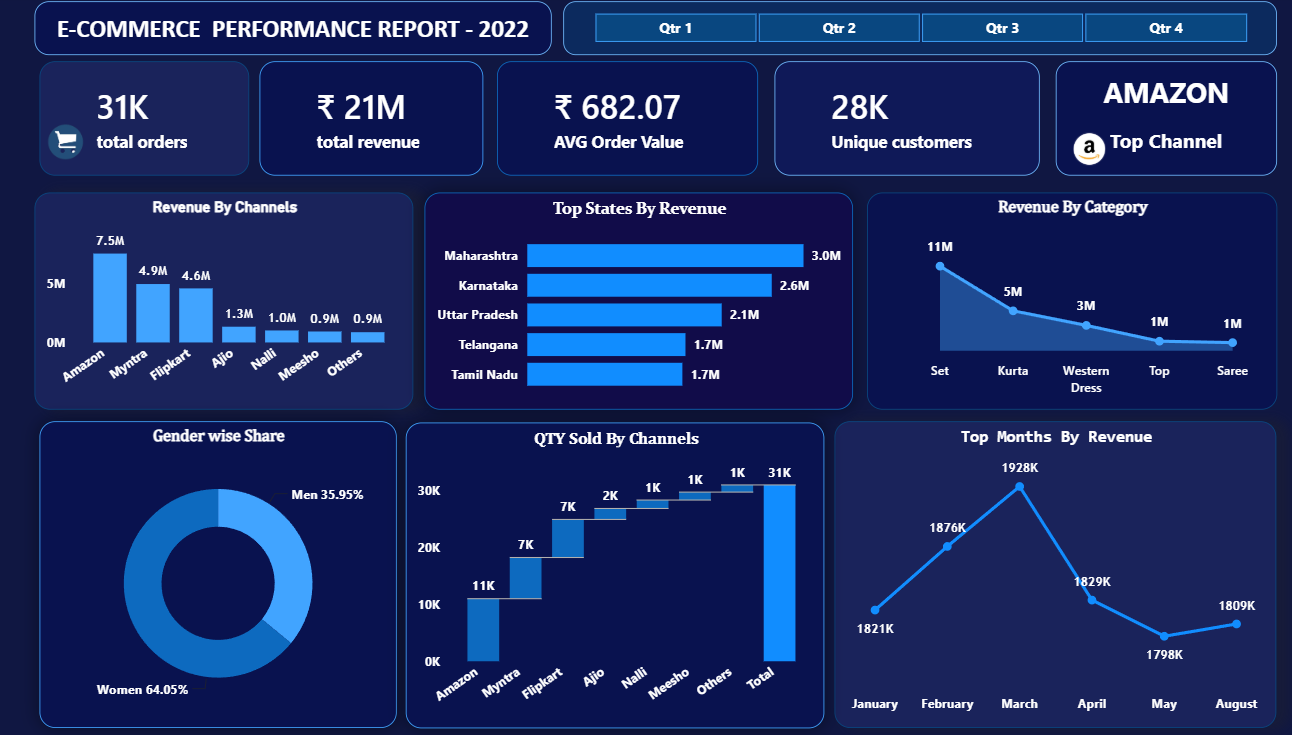

The page's visual inventory and layout, read from the dashboard file:
{"tool":"powerbi","page":{"name":"Page 1","canvas":[1280,720],"ordinal":0},"visuals":[{"type":"clusteredColumnChart","title":"Revenue By Channels","fields":{"Y":["Sum(Sales_Data.Amount)"],"Category":["Sales_Data.Channel"]},"box":[46.3,190.5,366,209.5],"z":0},{"type":"clusteredBarChart","title":"Top States By Revenue","fields":{"Category":["Sales_Data.Ship-State"],"Y":["Sum(Sales_Data.Amount)"]},"box":[421.8,190.5,413.6,209.5],"z":1000},{"type":"areaChart","title":"Revenue By Category","fields":{"Category":["Sales_Data.Category"],"Y":["Sum(Sales_Data.Amount)"]},"box":[849,190.5,395.9,209.5],"z":2000},{"type":"donutChart","title":"Gender wise Share ","fields":{"Series":["Sales_Data.Gender"],"Y":["Sum(Sales_Data.Amount)"]},"box":[50.8,411.7,344.4,296.4],"z":3000},{"type":"lineChart","title":"Top Months By Revenue ","fields":{"Category":["Sales_Data.Month.Variation.Date Hierarchy.Month"],"Y":["Sum(Sales_Data.Amount)"]},"box":[817.8,411.7,426.8,296.4],"z":4000},{"type":"waterfallChart","title":"QTY Sold By Channels ","fields":{"Category":["Sales_Data.Channel"],"Y":["CountNonNull(Sales_Data.Qty)"]},"box":[404.1,412.2,404.1,295.2],"z":5000},{"type":"cardVisual","fields":{"Data":["Sales_Data.total orders"]},"box":[50.3,63.9,202.7,110.2],"z":6000},{"type":"cardVisual","fields":{"Data":["Sales_Data.total revenue"]},"box":[262.6,63.9,216.3,110.2],"z":7000},{"type":"cardVisual","fields":{"Data":["Sales_Data.AVG Order Value"]},"box":[492.5,63.9,251.7,110.2],"z":8000},{"type":"cardVisual","fields":{"Data":["Sales_Data.Unique customers"]},"box":[760.5,63.9,255.8,110.2],"z":9000},{"type":"textbox","box":[1031.3,63.9,213.6,110.2],"z":10000},{"type":"textbox","box":[46.3,5.4,499.3,51.7],"z":11000},{"type":"slicer","fields":{"Values":["Sales_Data.Month.Variation.Date Hierarchy.Quarter"]},"box":[556.5,5.4,688.4,51.7],"z":12000},{"type":"image","box":[1047.2,120.6,33.8,55.5],"z":12001},{"type":"image","box":[50.7,109.8,50.7,63.9],"z":12002}]}

Visuals, with their boxes in screenshot pixels (x1, y1, x2, y2), scaled from the page's 1280x720 canvas onto the 1292x735 screenshot:
"Revenue By Channels" clusteredColumnChart: locate(47, 194, 416, 408)
"Top States By Revenue" clusteredBarChart: locate(426, 194, 843, 408)
"Revenue By Category" areaChart: locate(857, 194, 1257, 408)
"Gender wise Share " donutChart: locate(51, 420, 399, 723)
"Top Months By Revenue " lineChart: locate(825, 420, 1256, 723)
"QTY Sold By Channels " waterfallChart: locate(408, 421, 816, 722)
cardVisual - Sales_Data.total orders: locate(51, 65, 255, 178)
cardVisual - Sales_Data.total revenue: locate(265, 65, 483, 178)
cardVisual - Sales_Data.AVG Order Value: locate(497, 65, 751, 178)
cardVisual - Sales_Data.Unique customers: locate(768, 65, 1026, 178)
textbox: locate(1041, 65, 1257, 178)
textbox: locate(47, 6, 551, 58)
slicer - Sales_Data.Month.Variation.Date Hierarchy.Quarter: locate(562, 6, 1257, 58)
image: locate(1057, 123, 1091, 180)
image: locate(51, 112, 102, 177)
